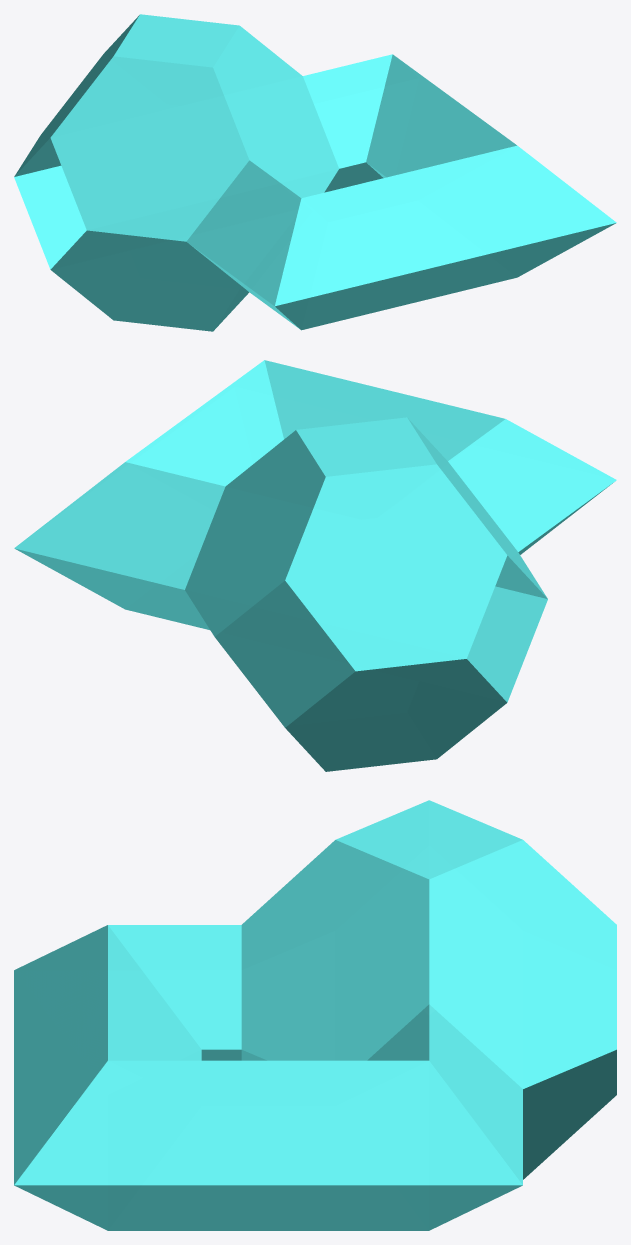
Rendered from TruncatedOctahedron.obj.
The picture shows the model from 3 angles, top to bottom: view 1: azimuth 30°, elevation 25°; view 2: azimuth 150°, elevation 25°; view 3: azimuth 270°, elevation 25°; orthographic projection. The views are drawn at different scales.
Bounding box in the file's own units: 4.54 × 2.83 × 4.54.
